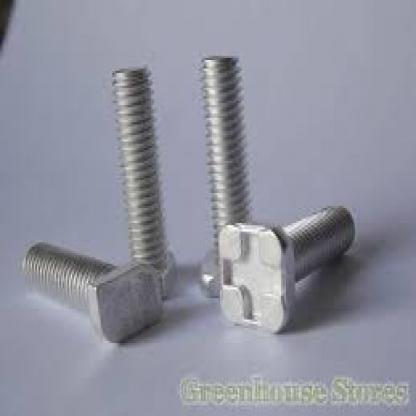METAL: (216, 202, 353, 333), (113, 64, 175, 300), (21, 240, 160, 343), (198, 54, 254, 296)
